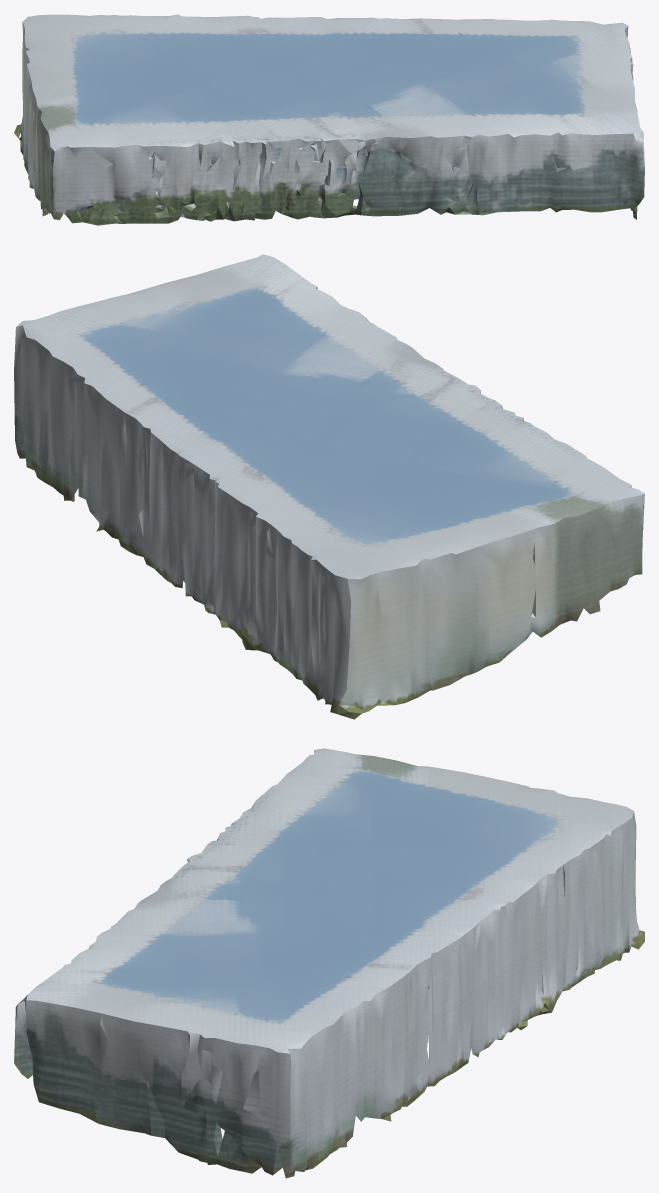
The model's file is ENV_01_TROUGH.glb.
3 views of the same model, one above another, from view 1: azimuth 30°, elevation 25°; view 2: azimuth 150°, elevation 25°; view 3: azimuth 270°, elevation 25° (orthographic). The views are drawn at different scales.
Parts seen in each view (by area): view 1: world; view 2: world; view 3: world.
Part boxes in pixels (<box>): world: <box>14,14,644,225</box>; world: <box>14,254,644,719</box>; world: <box>14,748,644,1178</box>.
Size of the model in its own units: 0.9729 by 0.2 by 0.8476.
1 material, 1 textured.
